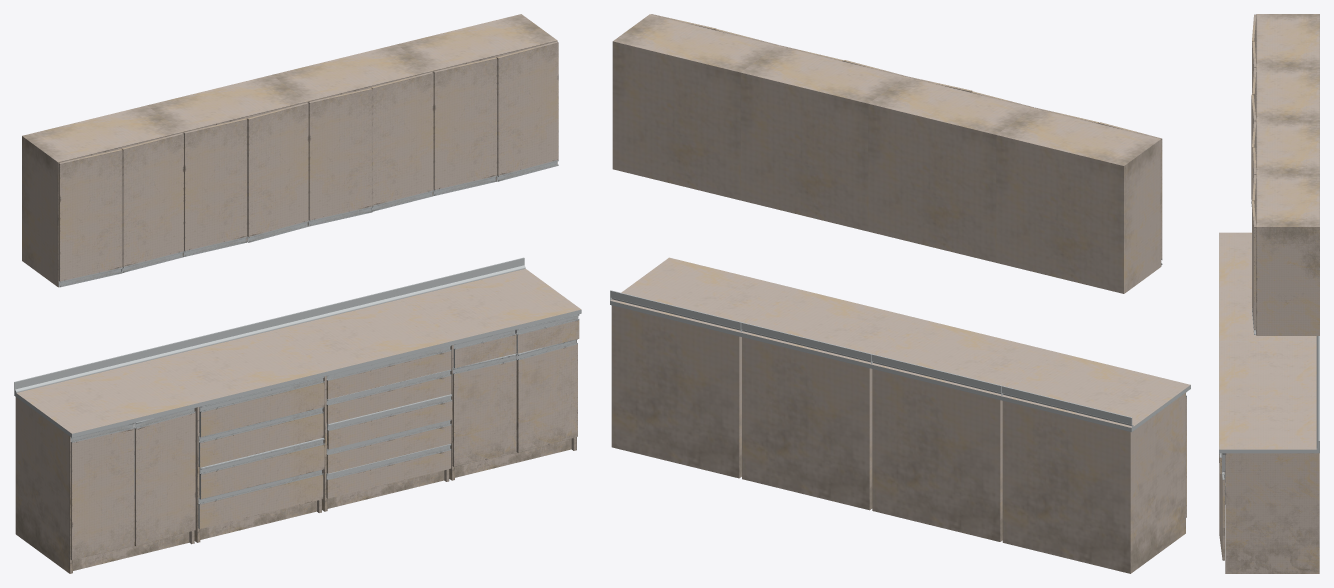
The model's file is old_kitchen_set.glb.
The picture shows the model from 3 angles, left to right: view 1: azimuth 30°, elevation 25°; view 2: azimuth 150°, elevation 25°; view 3: azimuth 270°, elevation 25°; orthographic projection. The views are drawn at different scales.
Visible parts, largest first — view 1: base_big005__0, base_big004__0, base_big003__0, base_small005__0, base_big002__0, door_big003__0, door_big007__0, door_big011__0, door_big006__0, door_big009__0, door_big008__0, door_big004__0 (+23 smaller); view 2: base_big005__0, base_small005__0, base_big004__0, base_big002__0, base_big003__0, base_small002__0, base_small003__0, base_small004__0, Box070, Box072, Box073, Box071; view 3: base_big002__0, base_small002__0, base_big003__0, base_small003__0, base_small004__0, base_small005__0, base_big004__0, base_big005__0, door_big004__0, door_small002__0, door_big010__0, Box070 (+5 smaller).
Part boxes in pixels (x1=…): base_big005__0: x1=14, y1=362, x2=199, y2=573; base_big004__0: x1=144, y1=331, x2=326, y2=542; base_big003__0: x1=271, y1=300, x2=454, y2=511; base_small005__0: x1=22, y1=105, x2=182, y2=287; base_big002__0: x1=398, y1=268, x2=581, y2=480; door_big003__0: x1=433, y1=57, x2=497, y2=195; door_big007__0: x1=308, y1=88, x2=372, y2=226; door_big011__0: x1=58, y1=149, x2=122, y2=287; door_big006__0: x1=70, y1=423, x2=134, y2=560; door_big009__0: x1=183, y1=118, x2=247, y2=256; door_big008__0: x1=371, y1=72, x2=433, y2=211; door_big004__0: x1=496, y1=41, x2=558, y2=181; base_big005__0: x1=1001, y1=353, x2=1190, y2=573; base_small005__0: x1=996, y1=108, x2=1161, y2=293; base_big004__0: x1=871, y1=321, x2=1059, y2=541; base_big002__0: x1=610, y1=257, x2=798, y2=478; base_big003__0: x1=740, y1=289, x2=929, y2=510; base_small002__0: x1=612, y1=14, x2=777, y2=200; base_small003__0: x1=740, y1=45, x2=905, y2=231; base_small004__0: x1=868, y1=76, x2=1032, y2=262; Box070: x1=610, y1=290, x2=742, y2=331; Box072: x1=871, y1=354, x2=1003, y2=395; Box073: x1=1001, y1=386, x2=1133, y2=427; Box071: x1=741, y1=322, x2=870, y2=362; base_big002__0: x1=1219, y1=395, x2=1319, y2=573; base_small002__0: x1=1256, y1=173, x2=1319, y2=335; base_big003__0: x1=1219, y1=341, x2=1316, y2=395; base_small003__0: x1=1256, y1=120, x2=1319, y2=173; base_small004__0: x1=1256, y1=67, x2=1319, y2=120; base_small005__0: x1=1256, y1=14, x2=1319, y2=67; base_big004__0: x1=1219, y1=287, x2=1316, y2=340; base_big005__0: x1=1219, y1=232, x2=1251, y2=286; door_big004__0: x1=1252, y1=201, x2=1256, y2=334; door_small002__0: x1=1219, y1=453, x2=1224, y2=560; door_big010__0: x1=1251, y1=94, x2=1256, y2=206; Box070: x1=1316, y1=387, x2=1319, y2=449.
Bounding box in the file's own units: 3.26 × 2.43 × 0.64.
Materials: 1 (1 with a texture image).
